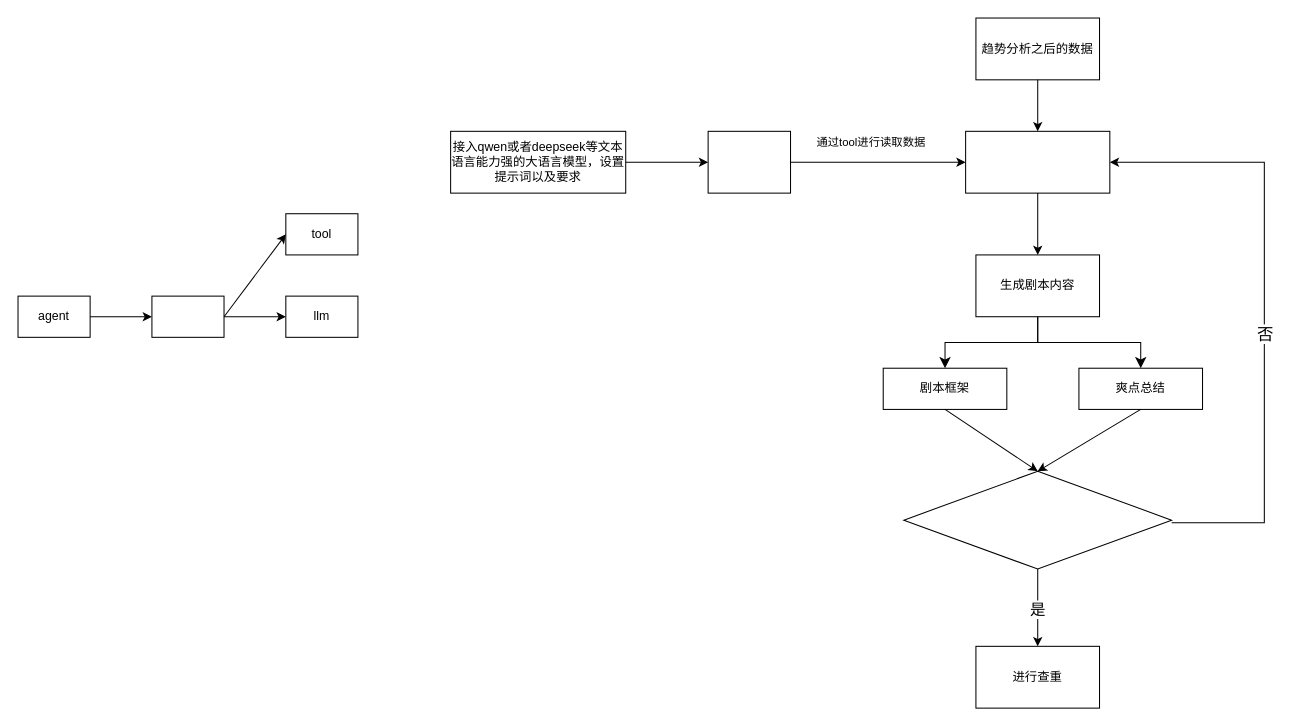
The diagram is 1291 pixels wide and 726 high, and some of its shapes have lost their labels. Here are the shapes that lost their labels. From the top down, the box of each, then its label:
(707, 130, 791, 193): 设置一个写剧本的agent
(965, 130, 1110, 193): 读取出该方向类型应该具备的关键词
(151, 295, 224, 337): model
(903, 470, 1172, 569): 判断生成的剧本内容、剧本框架和爽点总结是否符合用户要求
